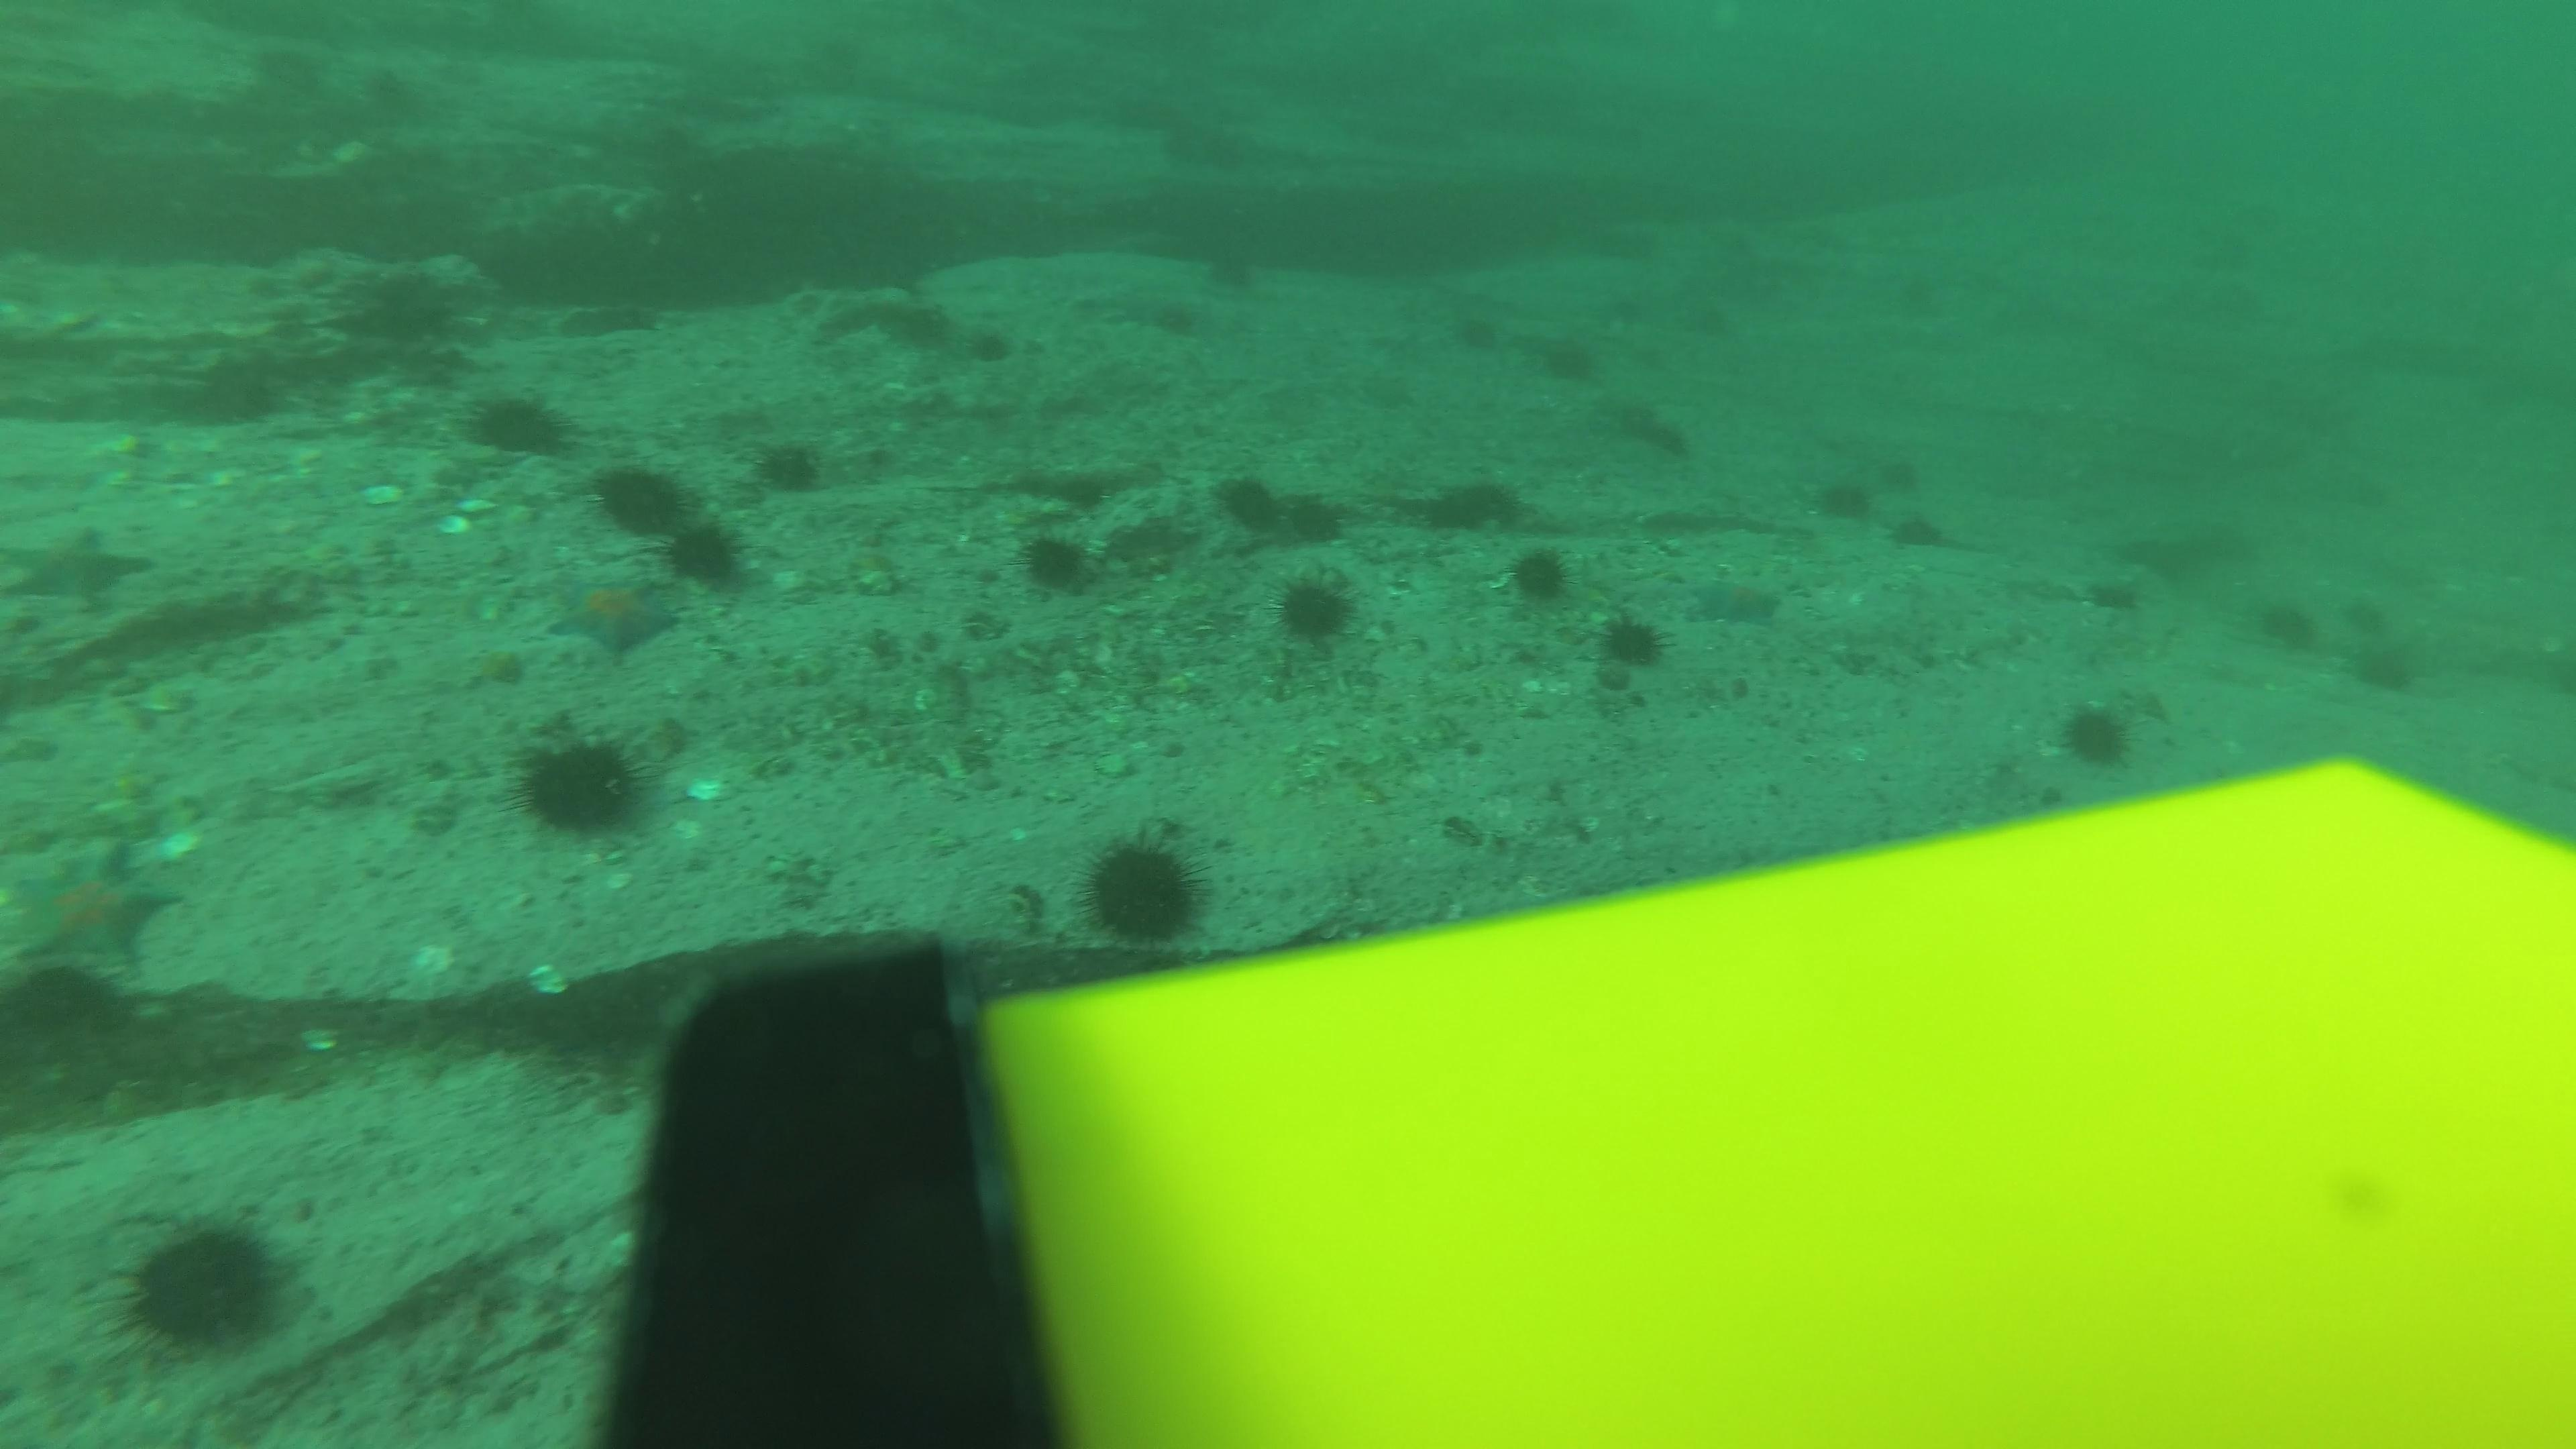echinus: (108, 1208, 297, 1361), (506, 724, 656, 846), (1074, 826, 1214, 950), (340, 257, 479, 356), (460, 382, 577, 465), (1263, 563, 1366, 653), (651, 508, 754, 596), (1007, 517, 1109, 603), (1417, 469, 1527, 541), (2049, 694, 2143, 777), (1208, 472, 1302, 556), (1274, 478, 1368, 561), (2339, 616, 2427, 699), (1585, 607, 1674, 688), (1497, 540, 1580, 614), (747, 430, 833, 501), (2247, 589, 2323, 660), (600, 464, 678, 531), (1626, 403, 1690, 458), (2091, 564, 2155, 619), (964, 308, 1026, 363), (1444, 306, 1506, 361), (1536, 333, 1598, 387), (1596, 285, 1658, 340), (1702, 295, 1764, 350), (1813, 469, 1875, 524), (1879, 446, 1941, 501), (1882, 506, 1946, 559), (1203, 241, 1265, 294), (1621, 336, 1683, 389)
starfish: (4, 835, 184, 982), (4, 520, 159, 609), (540, 566, 685, 660), (1684, 568, 1790, 632)
